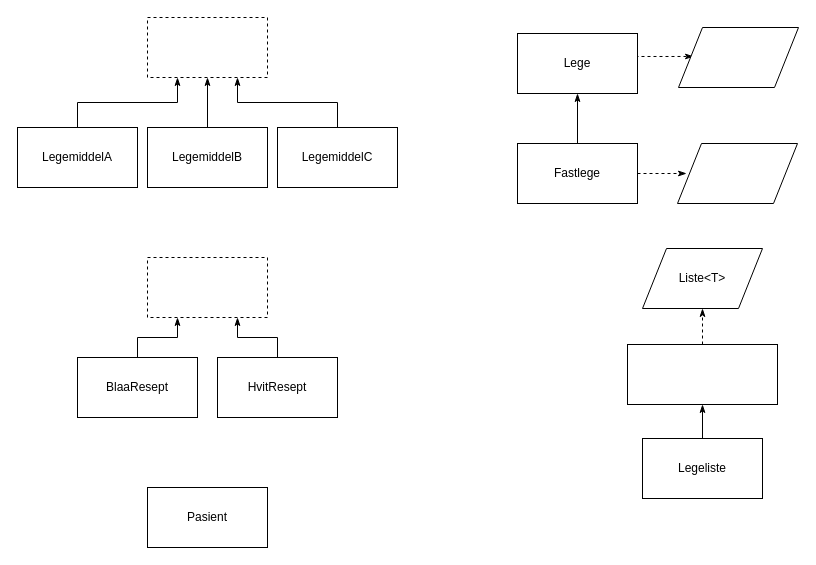
Image size: 816x565. Some labels were removed from this diagram. Here are the shapes that lost their labels. From the top down, the centre of each, then its label:
[207,47]: Legemiddel
[738,57]: Comparable<T>
[737,173]: Kommuneavtale
[207,287]: Resept
[702,374]: OrdnetLenkeliste<Lege>
